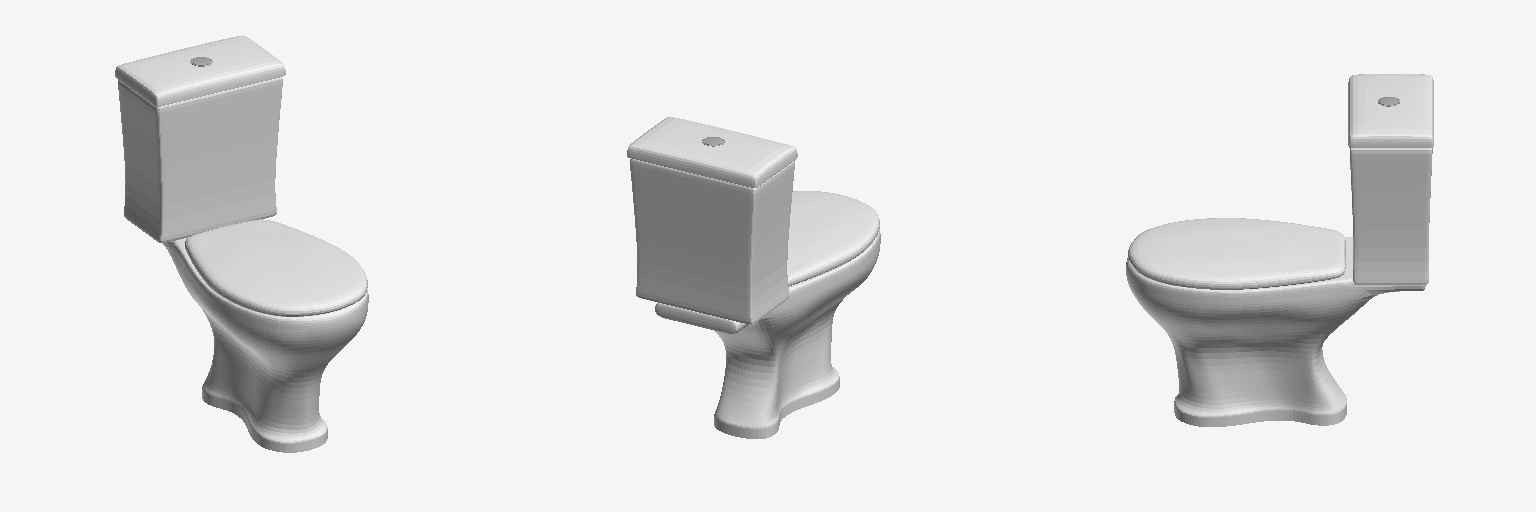
The model's file is toiletsUnit.obj.
3 renders of one model, left to right at view 1: azimuth 30°, elevation 25°; view 2: azimuth 150°, elevation 25°; view 3: azimuth 270°, elevation 25°, orthographic.
Parts seen in each view (by area): view 1: lavatory_water_tank_Plane.004, lavatory_pan_Plane.003, lavatory_pan_cover_Plane.000; view 2: lavatory_water_tank_Plane.004, lavatory_pan_Plane.003, lavatory_pan_cover_Plane.000; view 3: lavatory_pan_Plane.003, lavatory_water_tank_Plane.004, lavatory_pan_cover_Plane.000.
Boxes of the visible parts, <box> form: lavatory_water_tank_Plane.004: <box>115,36,285,242</box>; lavatory_pan_Plane.003: <box>162,237,368,452</box>; lavatory_pan_cover_Plane.000: <box>185,219,367,316</box>; lavatory_water_tank_Plane.004: <box>627,117,797,324</box>; lavatory_pan_Plane.003: <box>655,229,880,438</box>; lavatory_pan_cover_Plane.000: <box>787,191,879,286</box>; lavatory_pan_Plane.003: <box>1126,237,1425,426</box>; lavatory_water_tank_Plane.004: <box>1348,74,1433,284</box>; lavatory_pan_cover_Plane.000: <box>1128,218,1345,289</box>.
Size of the model in its own units: 35.34 by 77.23 by 69.21.